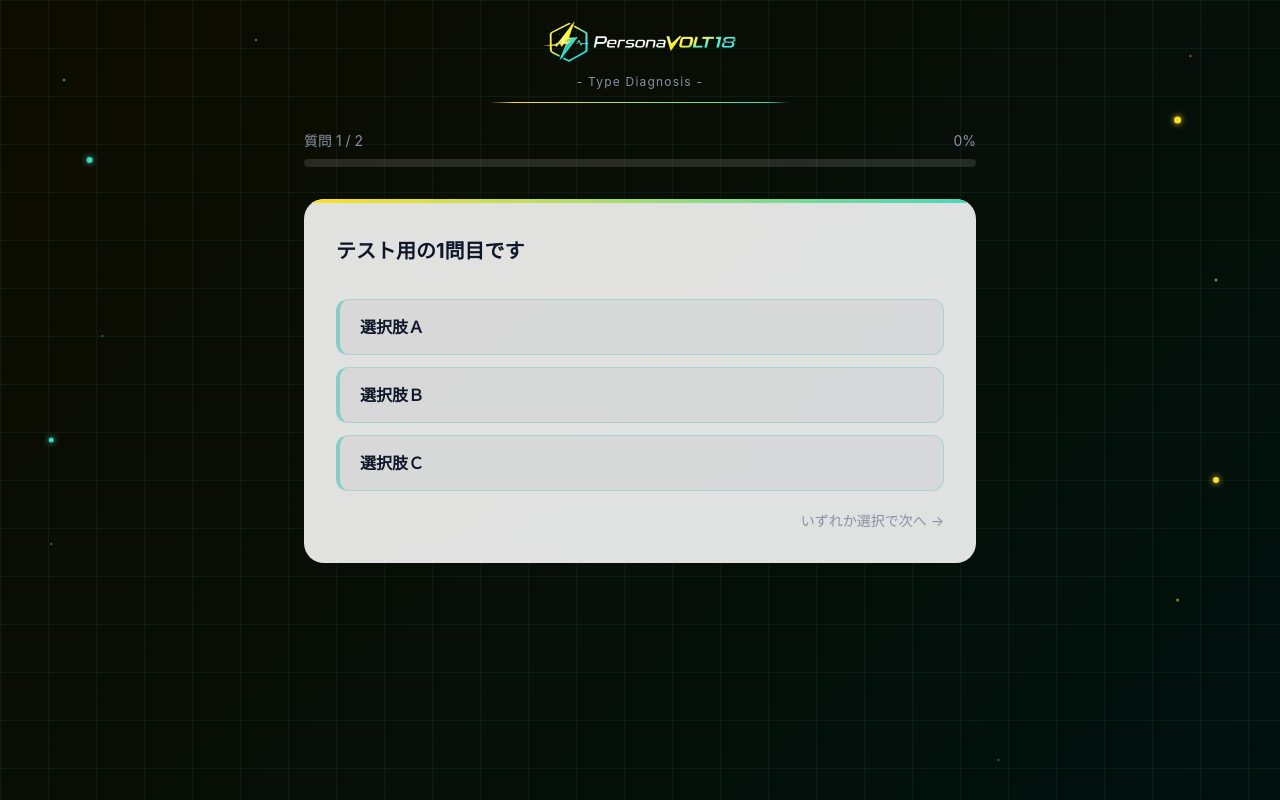
Scenario: QuizFlow › 2問目では「戻る」ボタンが表示され、クリックすると1問目に戻る
This screenshot has width=1280, height=800.
# 1問目で選択肢をクリック → 300ms後に2問目へ
Click the radio button "選択肢Ａ": (392, 327) x1=336 y1=299 x2=944 y2=355
Wait 300 ms
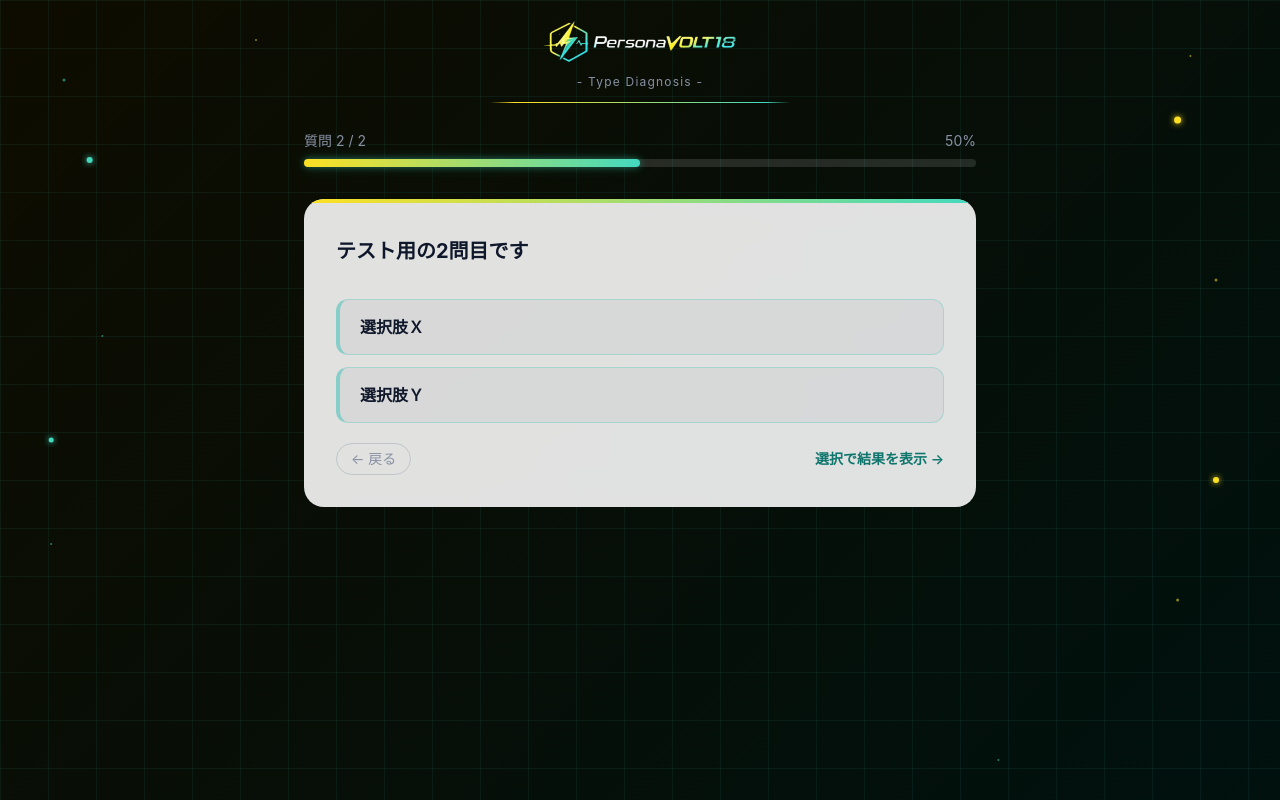
Check: the text "質問 2 / 2" is shown, box x1=304 y1=130 x2=366 y2=150
Check: the button "← 戻る" is shown
# 戻るをクリック → 150ms後に1問目に戻る
Click the button "← 戻る": (374, 459) x1=336 y1=443 x2=411 y2=475
Wait 150 ms
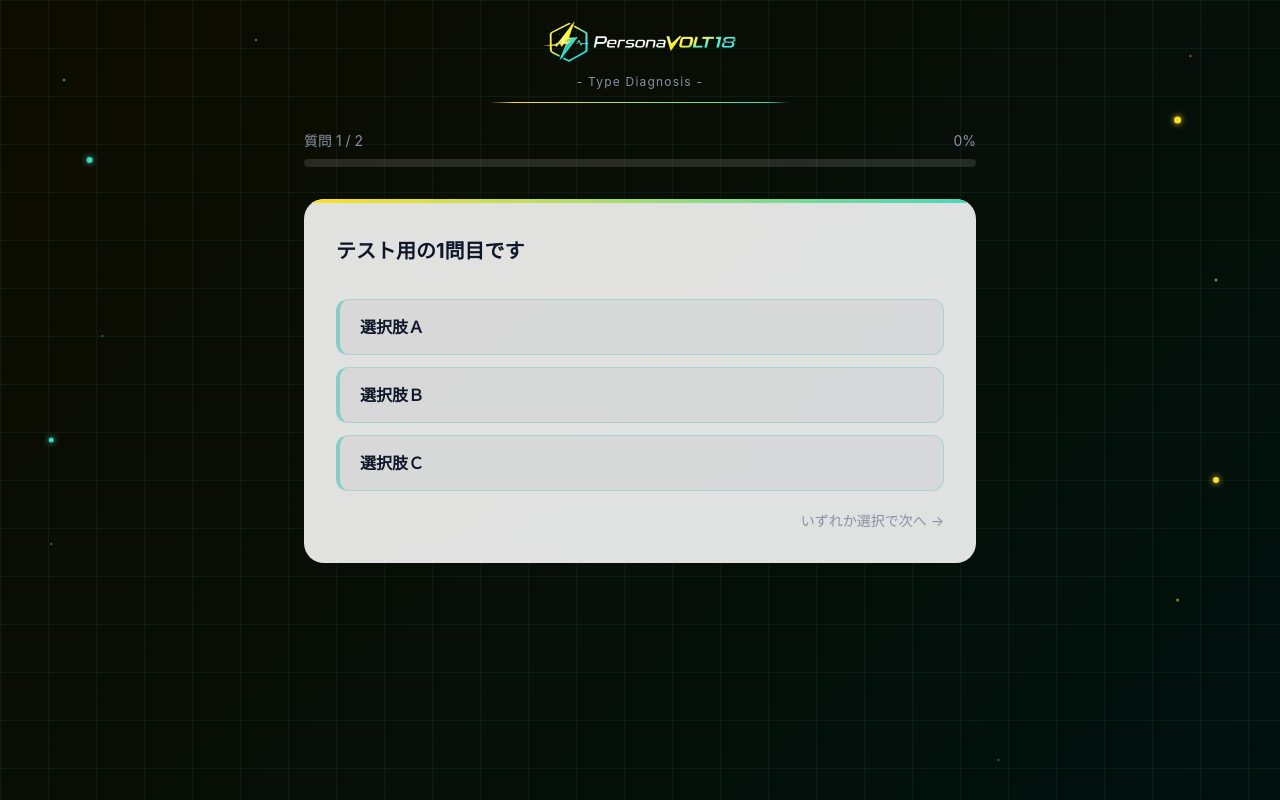
Check: the text "質問 1 / 2" is shown, box x1=304 y1=130 x2=363 y2=150
Check: the button "← 戻る" is gone
